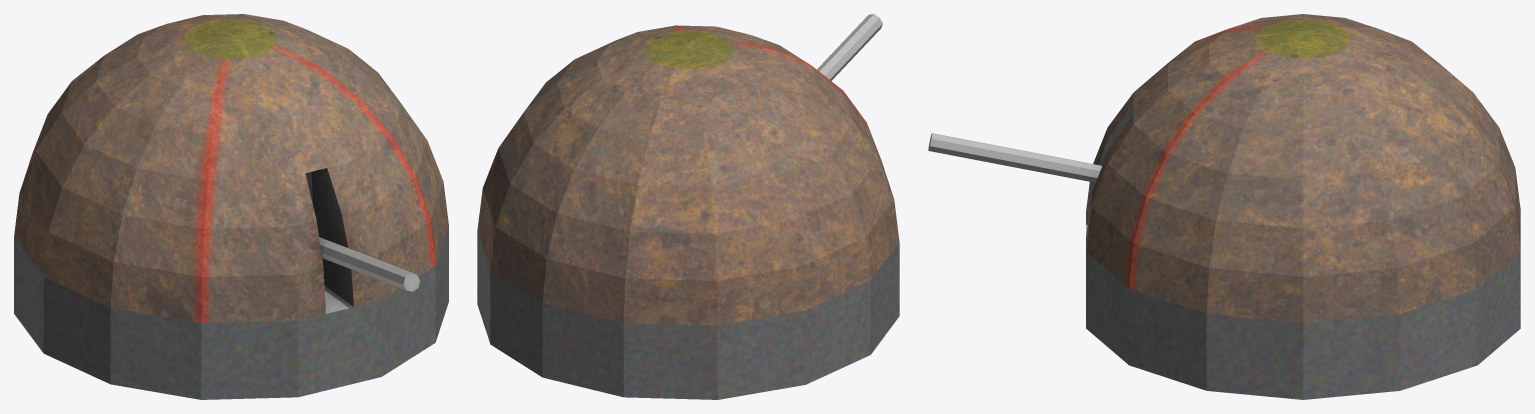
File: basic_gun.obj
3 views of the same model, side by side, from view 1: azimuth 30°, elevation 25°; view 2: azimuth 150°, elevation 25°; view 3: azimuth 270°, elevation 25° (orthographic). The views are drawn at different scales.
Visible parts, largest first — view 1: turret_Sphere, base_Sphere.001, gun_Cylinder; view 2: turret_Sphere, base_Sphere.001, gun_Cylinder; view 3: turret_Sphere, base_Sphere.001, gun_Cylinder.
Boxes of the visible parts, x1,y1,x2,y2 form: turret_Sphere: [14, 14, 448, 323]; base_Sphere.001: [14, 226, 448, 399]; gun_Cylinder: [319, 237, 419, 291]; turret_Sphere: [477, 25, 899, 325]; base_Sphere.001: [477, 230, 899, 399]; gun_Cylinder: [817, 14, 882, 80]; turret_Sphere: [1086, 14, 1520, 322]; base_Sphere.001: [1086, 252, 1520, 399]; gun_Cylinder: [928, 133, 1101, 182].
Size of the model in its own units: 1 by 0.7012 by 1.36.
Materials: 3 (3 with a texture image).
